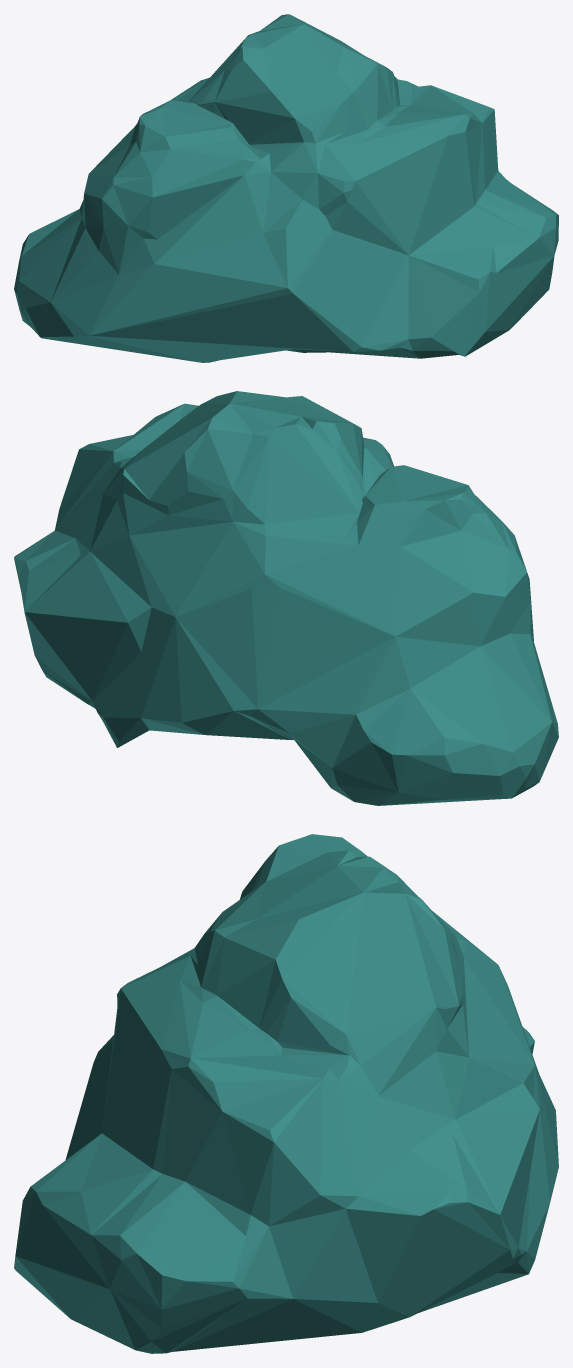
File: SM_Rock_Sea_Medium_Bumpy_B.fbx
The picture shows the model from 3 angles, top to bottom: view 1: azimuth 30°, elevation 25°; view 2: azimuth 150°, elevation 25°; view 3: azimuth 270°, elevation 25°; orthographic projection. The views are drawn at different scales.
Visible parts, largest first — view 1: rock-sea-medium-bumpy-b; view 2: rock-sea-medium-bumpy-b; view 3: rock-sea-medium-bumpy-b.
Part boxes in pixels (x1,y1,x2,y2): rock-sea-medium-bumpy-b: (14, 14, 558, 362); rock-sea-medium-bumpy-b: (14, 391, 558, 805); rock-sea-medium-bumpy-b: (14, 834, 558, 1353).
Bounding box in the file's own units: 4.65 × 2.5 × 3.45.
